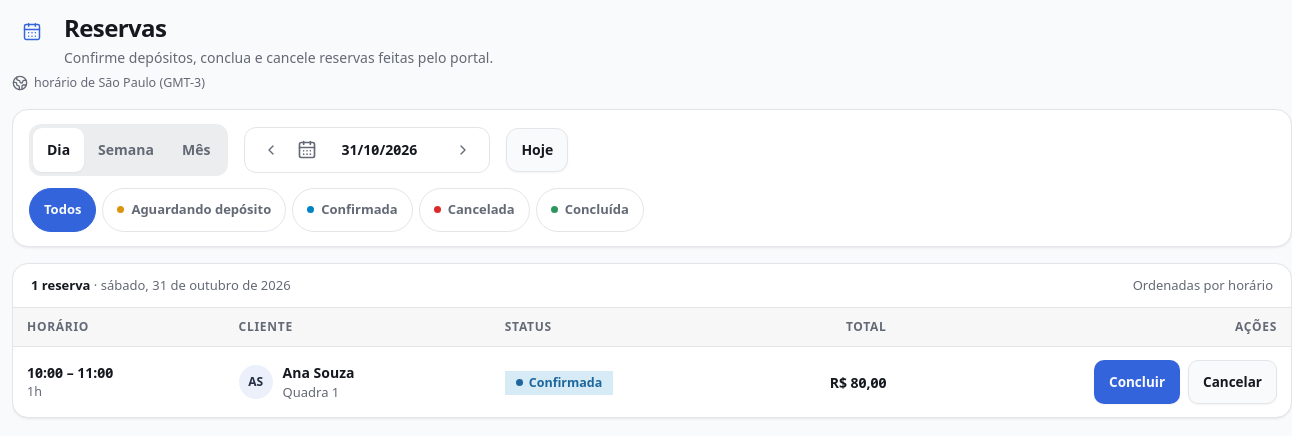
Test: ReservationsPage › completes a Confirmed reservation, toasts success, and reloads without Concluir
This screenshot has width=1292, height=436.
Expected: the text "Ana Souza" is shown, [283,363,354,382]
What coordinates should you click on to do the following:
click the button "Concluir"
I would click on:
 (1137, 382)
Its box is [1094,360,1180,404].
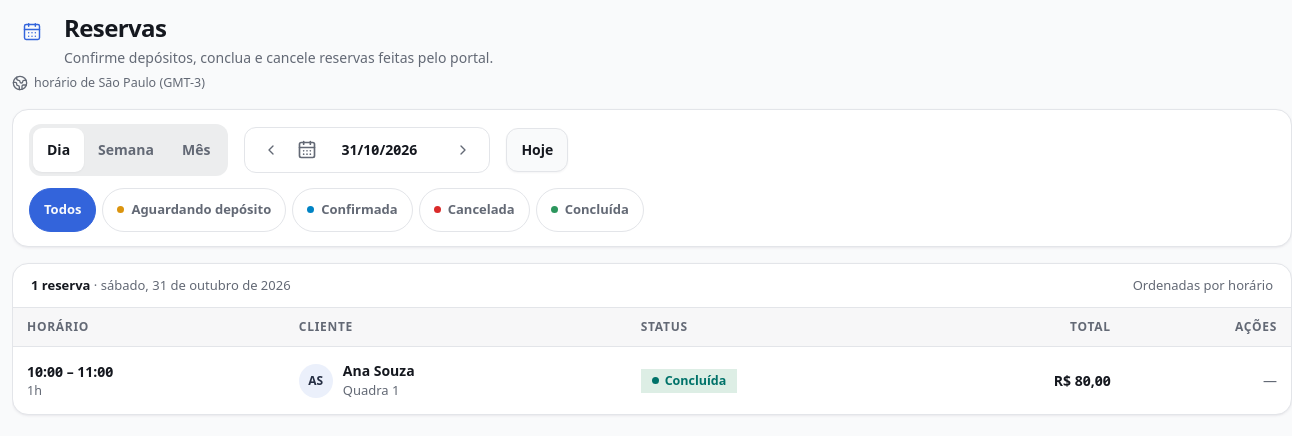
Expected: the text "Ana Souza" is shown, [343,361,415,380]
Expected: the button "Concluir" is gone
